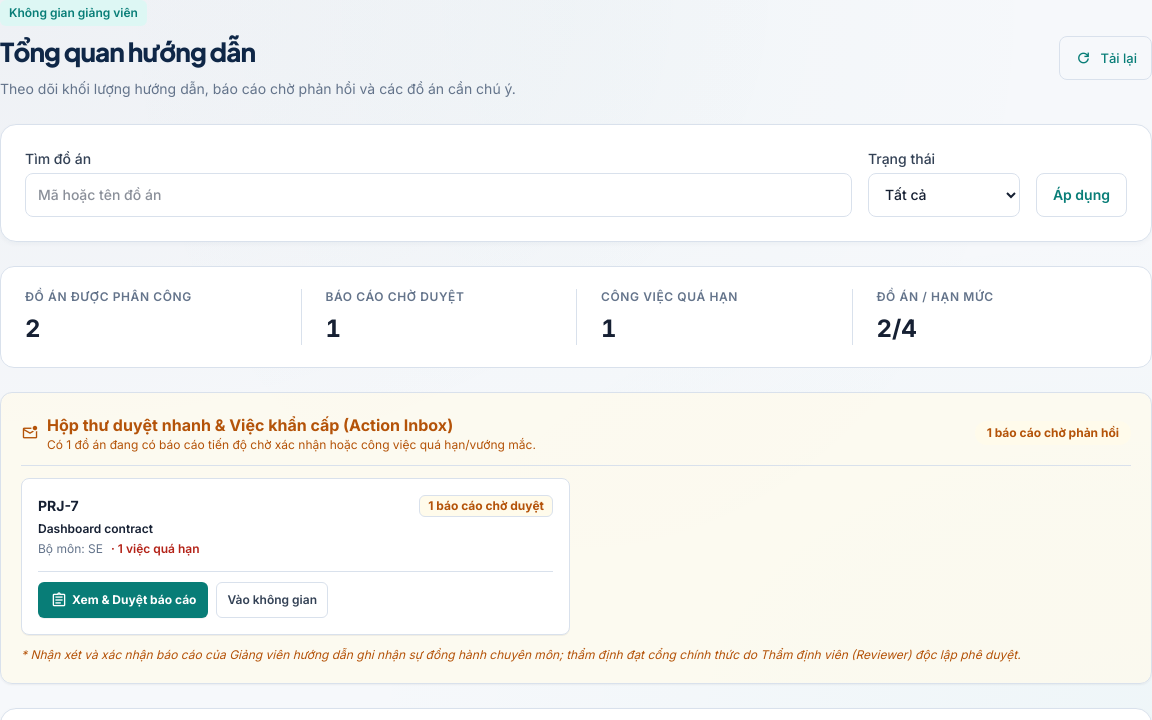
Test case: SupervisorDashboardPage › hides outdated project data when refresh fails
Click the button "Tải lại" at point(1106, 58), box top-left (1060, 36), bottom-right (1151, 80)
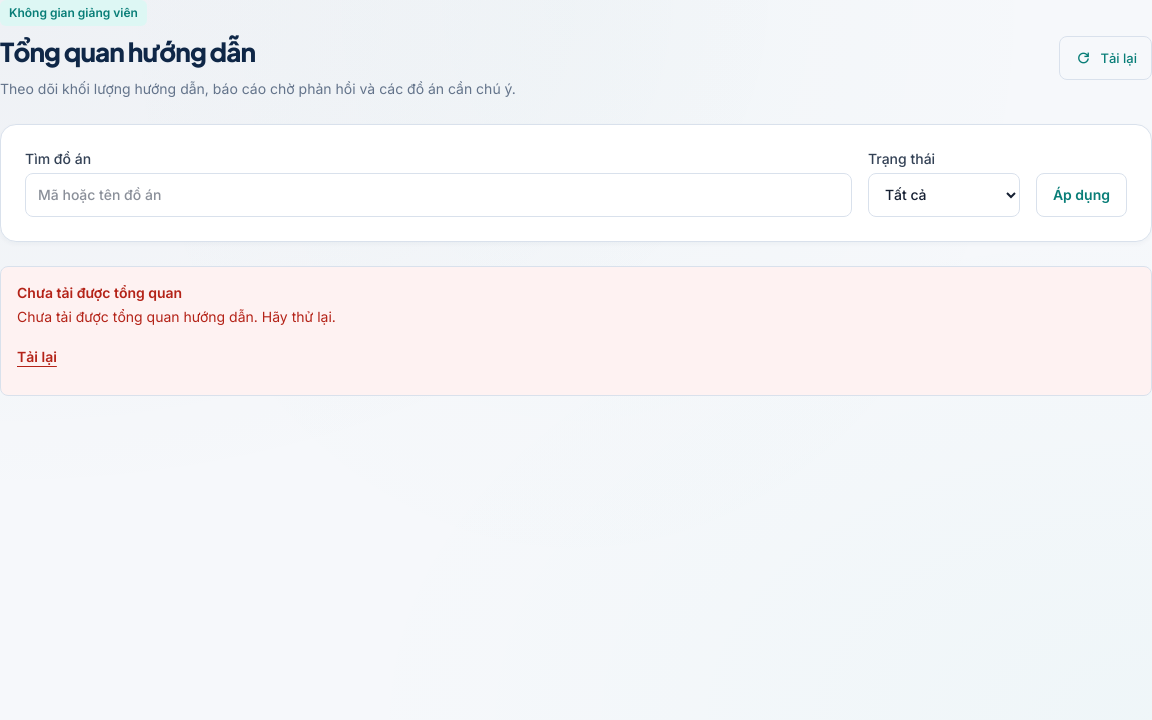
Result: the message is shown at top-left (0, 266), bottom-right (1151, 396)
